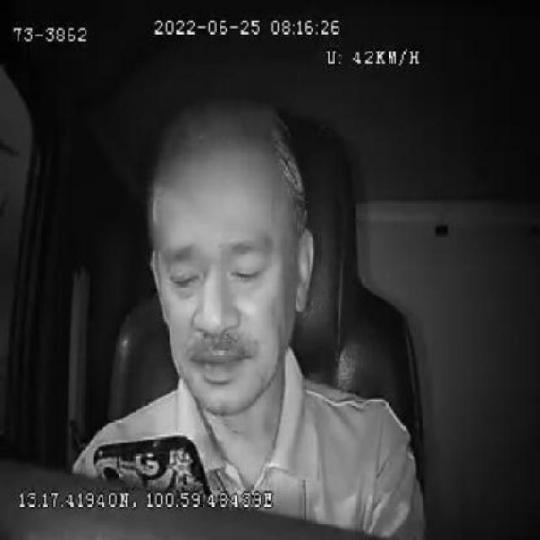phone: (92, 432, 212, 490)
